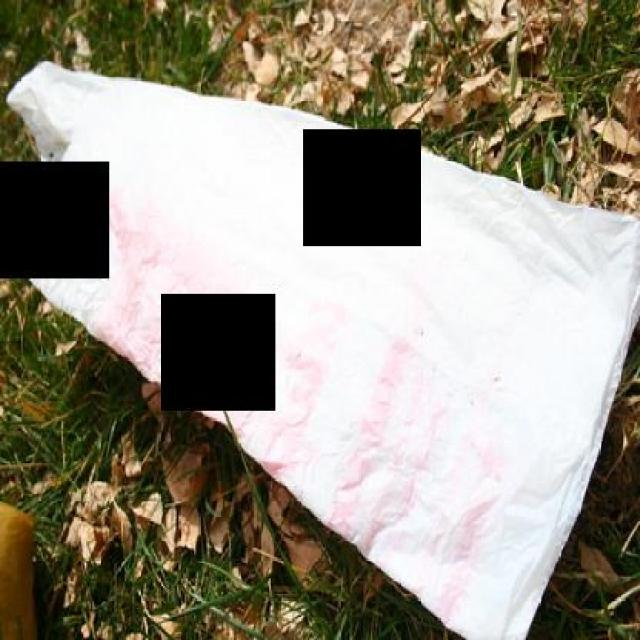plastic bag: (4, 60, 638, 637)
